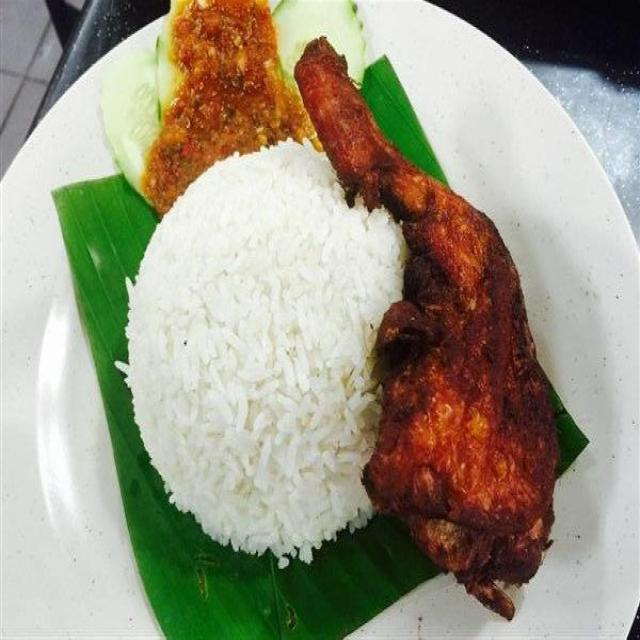Frango: (346, 108, 554, 570)
